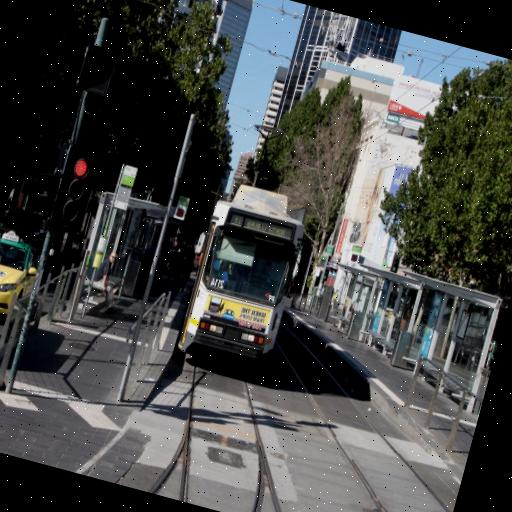handrail: (131, 293, 168, 385)
ramp: (4, 296, 165, 403)
